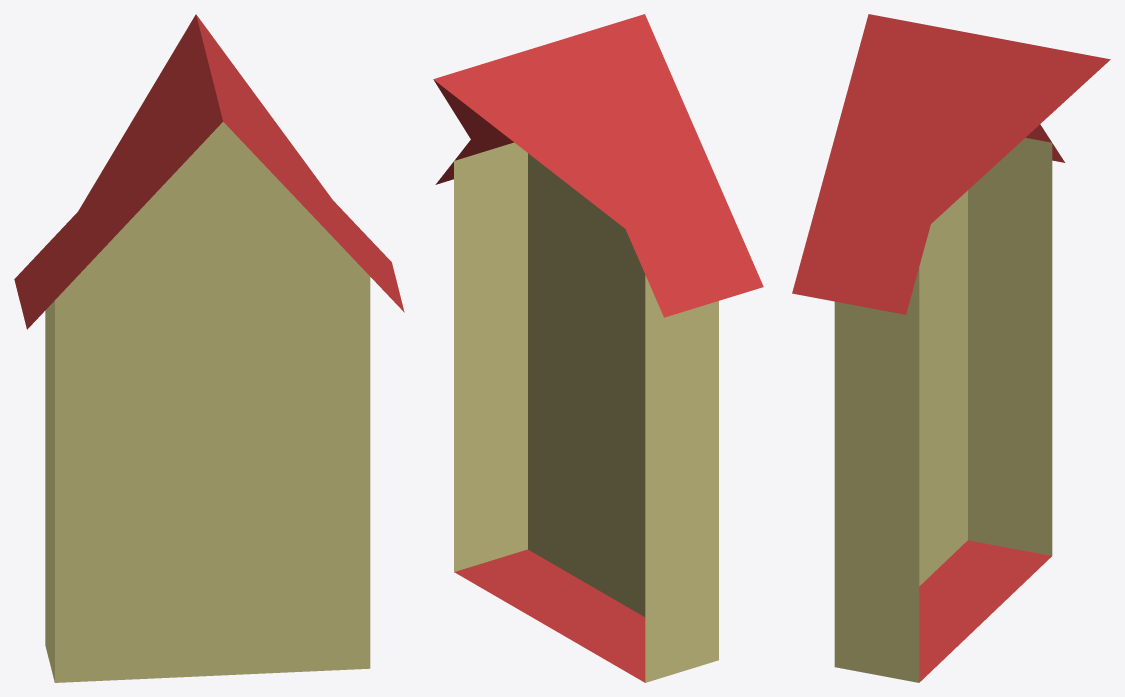
3 views of the same model, side by side, from view 1: azimuth 30°, elevation 25°; view 2: azimuth 150°, elevation 25°; view 3: azimuth 270°, elevation 25° (orthographic). The views are drawn at different scales.
Size of the model in its own units: 6.33 by 4.93 by 10.01.
